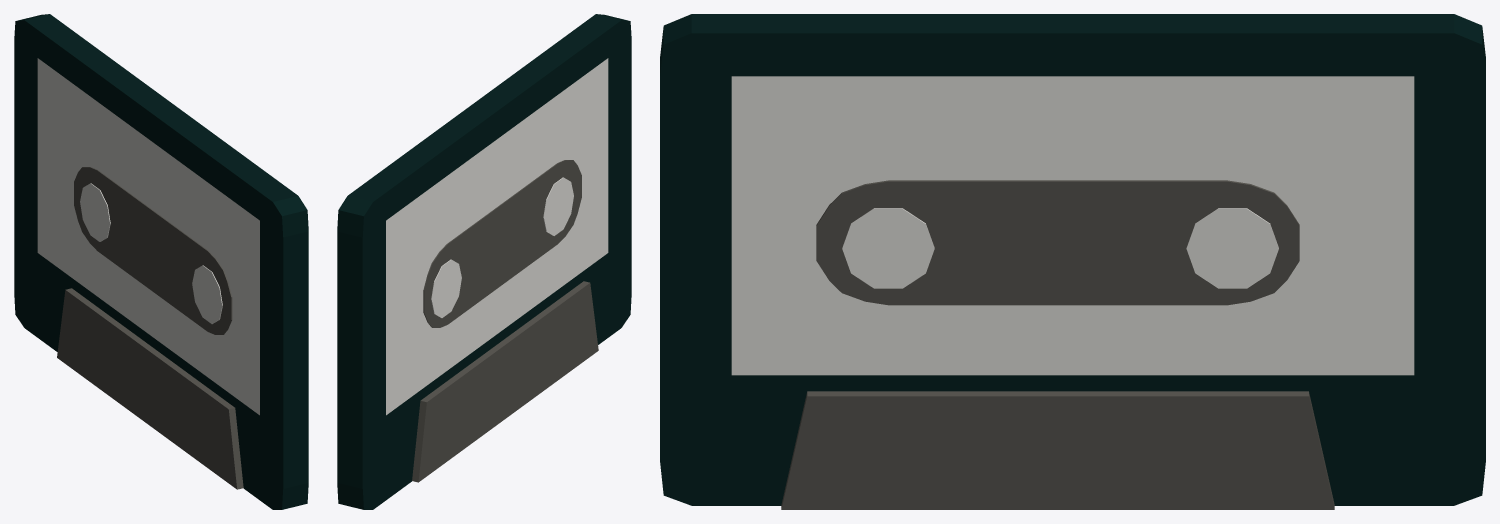
The model's file is cassette-white.fbx.
3 renders of one model, left to right at view 1: azimuth 30°, elevation 25°; view 2: azimuth 150°, elevation 25°; view 3: azimuth 270°, elevation 25°, orthographic. The views are drawn at different scales.
Visible parts, largest first — view 1: cassette; view 2: cassette; view 3: cassette.
Boxes of the visible parts, box(x1,y1,x2,y2) form: cassette: box(14, 14, 308, 509); cassette: box(337, 14, 631, 509); cassette: box(660, 14, 1485, 509).
Size of the model in its own units: 74.85 by 571 by 905.
